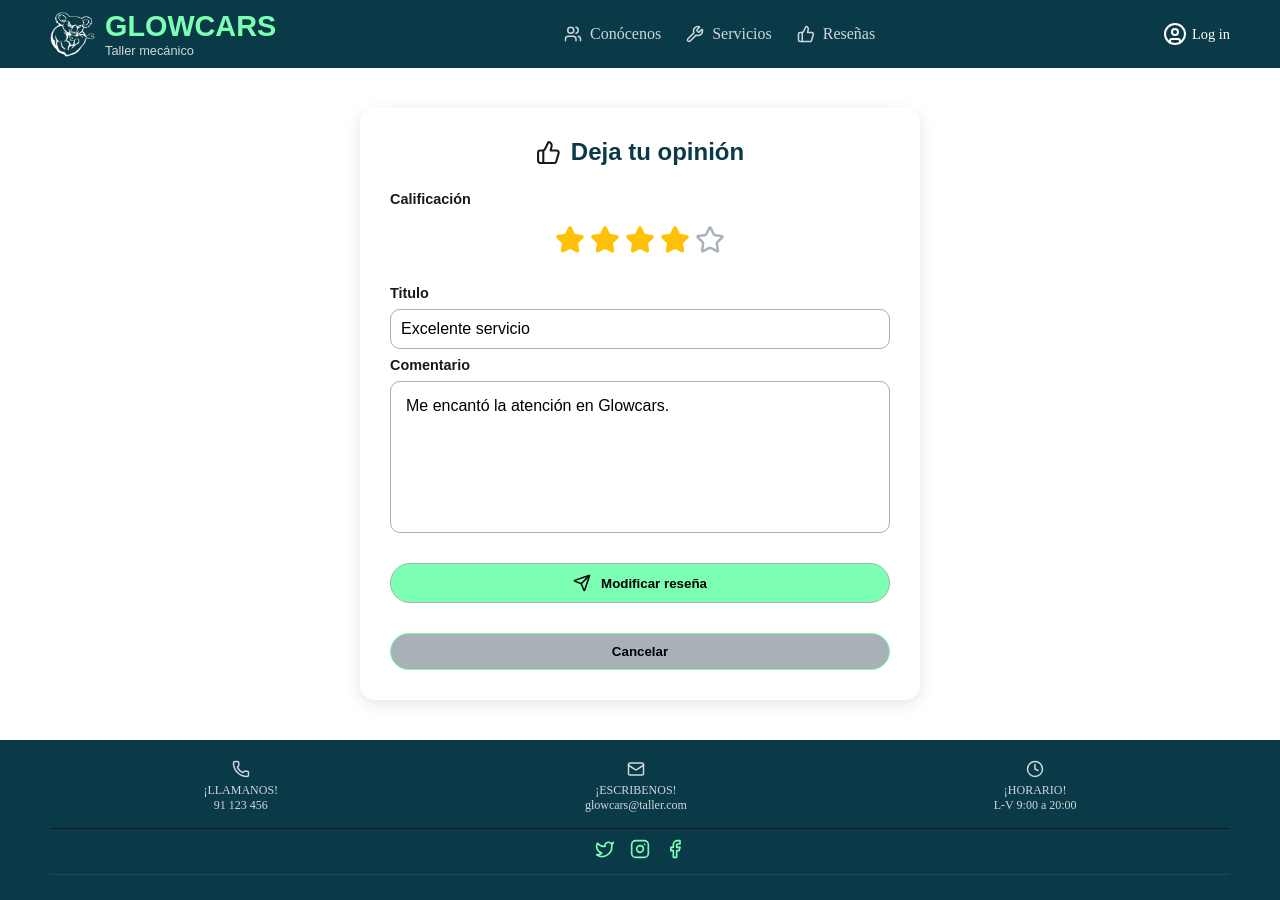
Scenario: Pruebas en <ModificarResena /> › debe mostrar el modal de éxito cuando la respuesta de axios es correcta
Click the button "Modificar reseña" at (640, 583), box [390, 563, 890, 603]
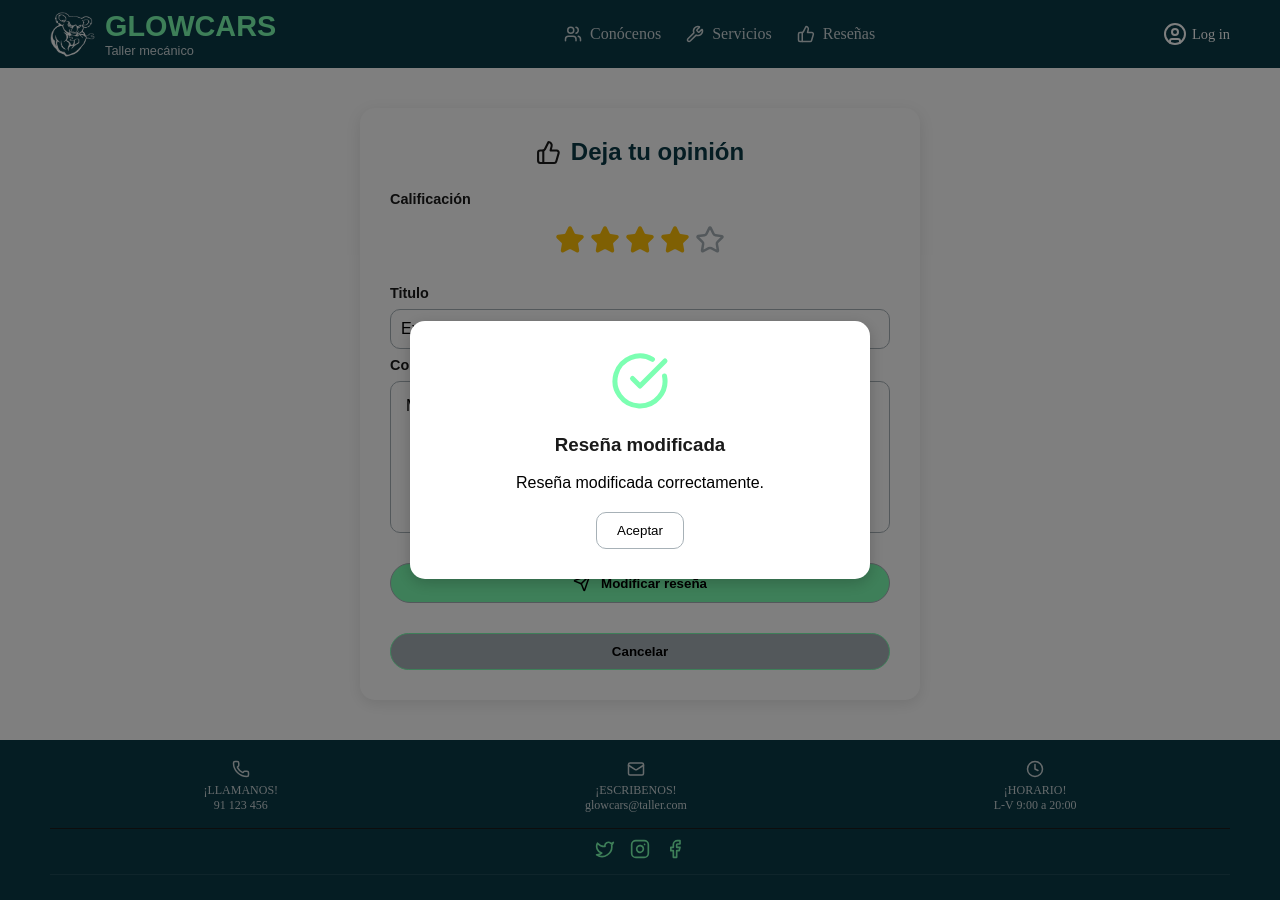
Now the text "Reseña modificada correctamente." is shown, box [516, 474, 764, 491]
